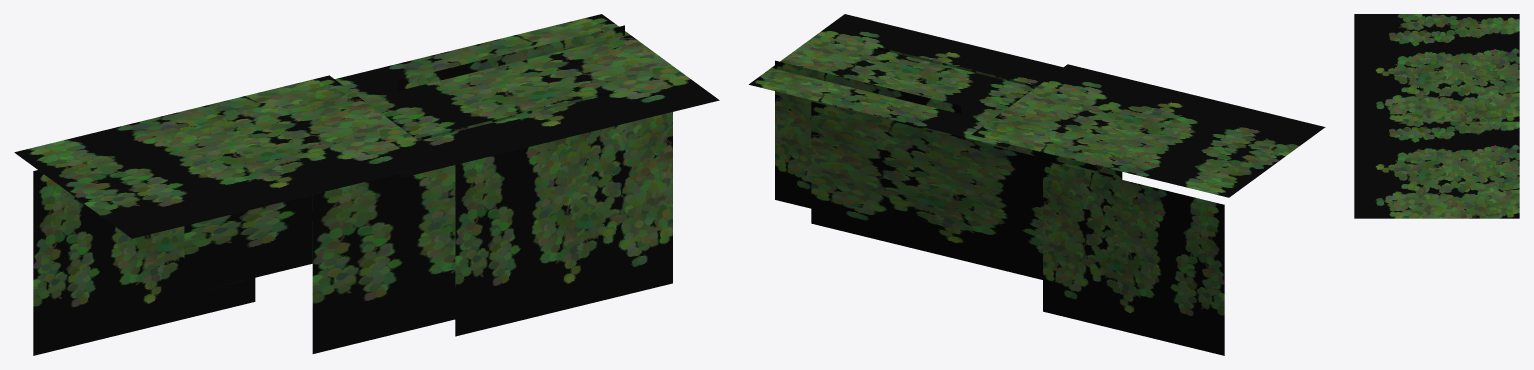
Rendered from Prop_Vine9_LOD1.gltf.
3 renders of one model, left to right at view 1: azimuth 30°, elevation 25°; view 2: azimuth 150°, elevation 25°; view 3: azimuth 270°, elevation 25°, orthographic. The views are drawn at different scales.
Visible parts, largest first — view 1: Prop_Vine9_LOD1; view 2: Prop_Vine9_LOD1; view 3: Prop_Vine9_LOD1.
Boxes of the visible parts, x1,y1,x2,y2 form: Prop_Vine9_LOD1: [14, 14, 719, 355]; Prop_Vine9_LOD1: [749, 14, 1325, 355]; Prop_Vine9_LOD1: [1354, 14, 1519, 218].
Size of the model in its own units: 4.23 by 1.47 by 1.47.
1 material, 1 textured.
